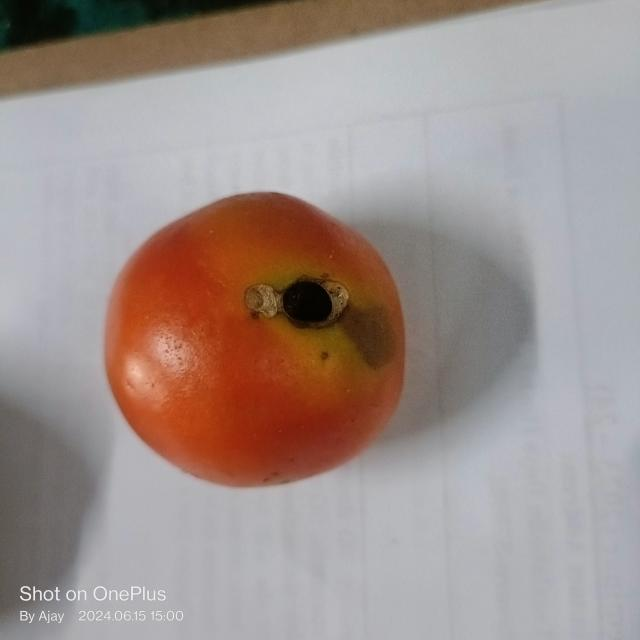fruitworm_bore: (233, 274, 355, 331)
